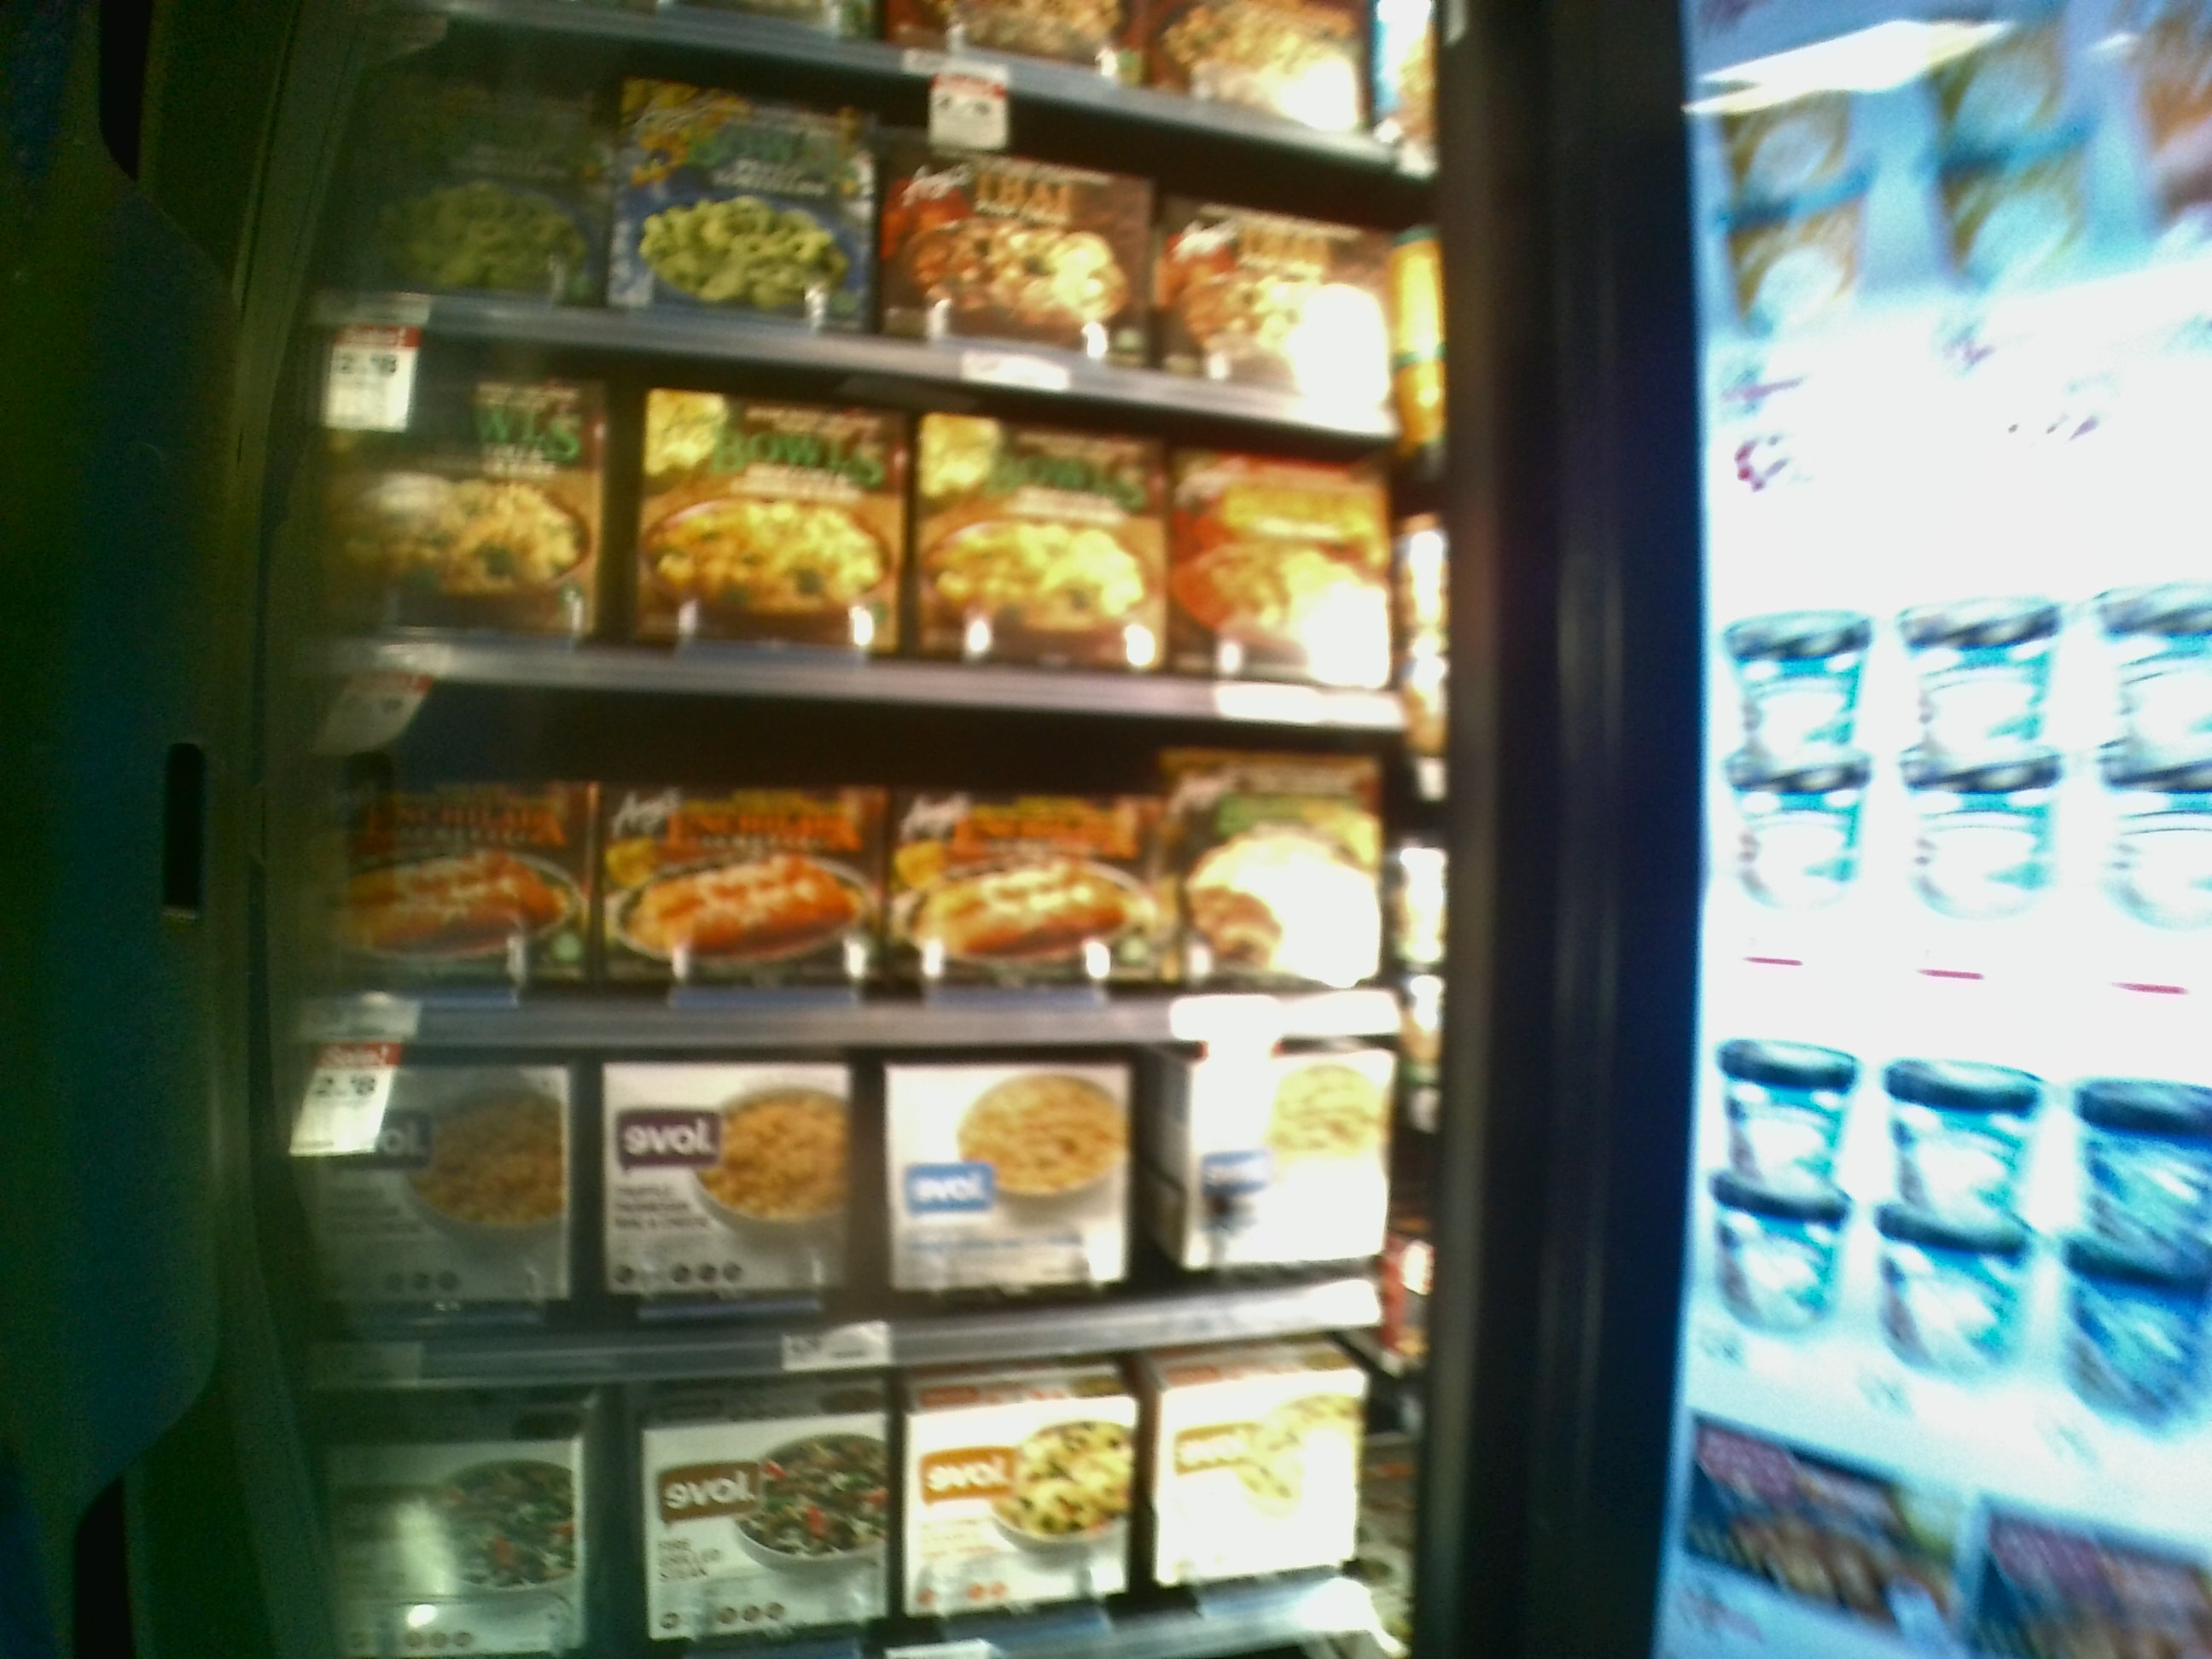shelf: (291, 368, 1432, 723), (282, 730, 1460, 1053), (296, 1051, 1399, 1377), (301, 84, 1420, 371)
